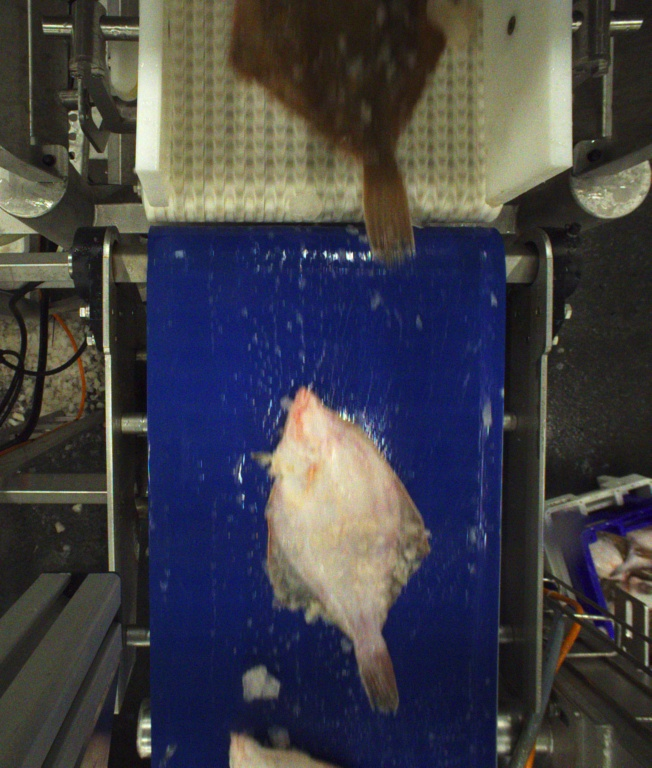PLE: (264, 388, 433, 712)
